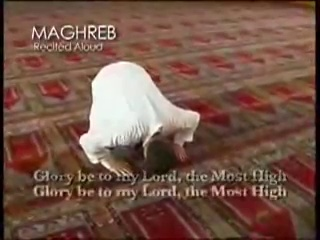sujud: (78, 61, 200, 177)
